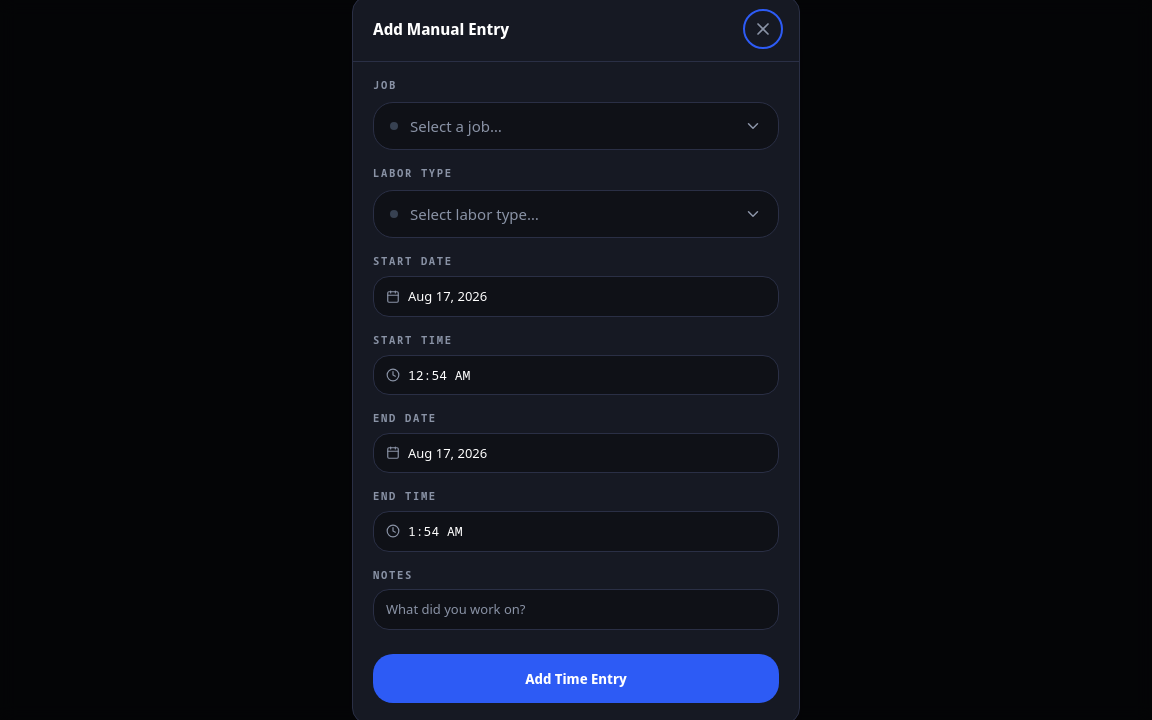
EditEntryModal — validation › shows "Please select a labor type" when job is selected but no labor type
Click the button "Select a job…".
click(456, 126)  # box [373,102,779,150]
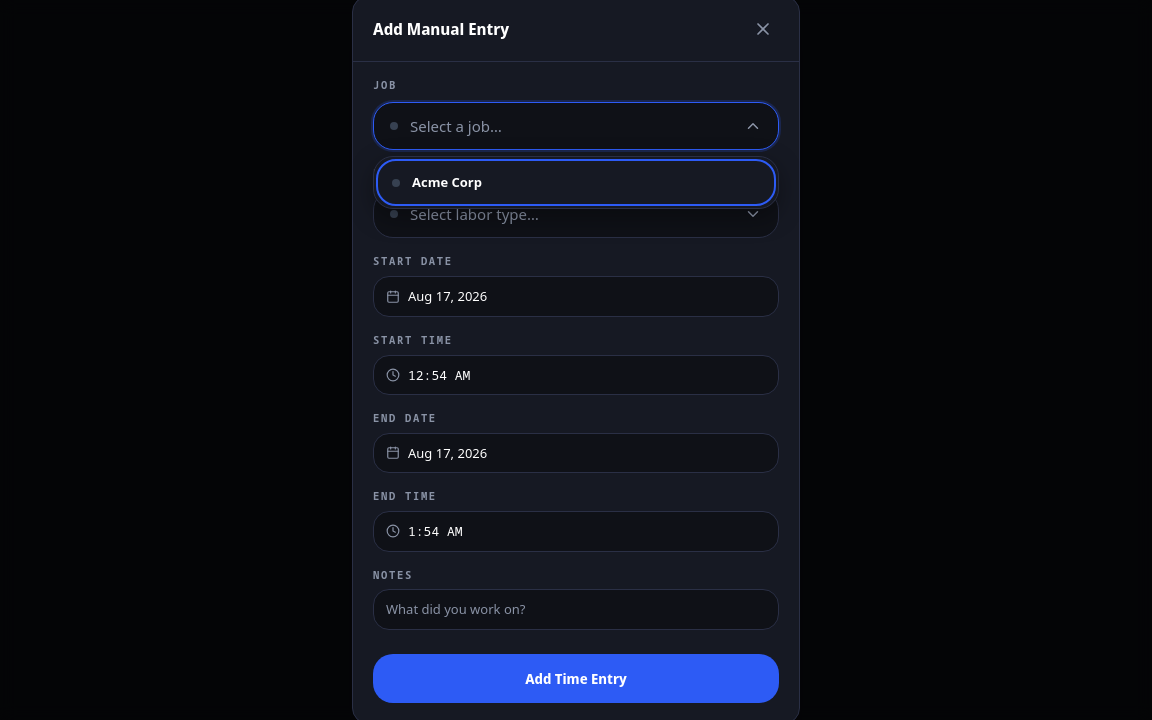
Click the option "Acme Corp".
click(447, 182)  # box [380,163,772,202]
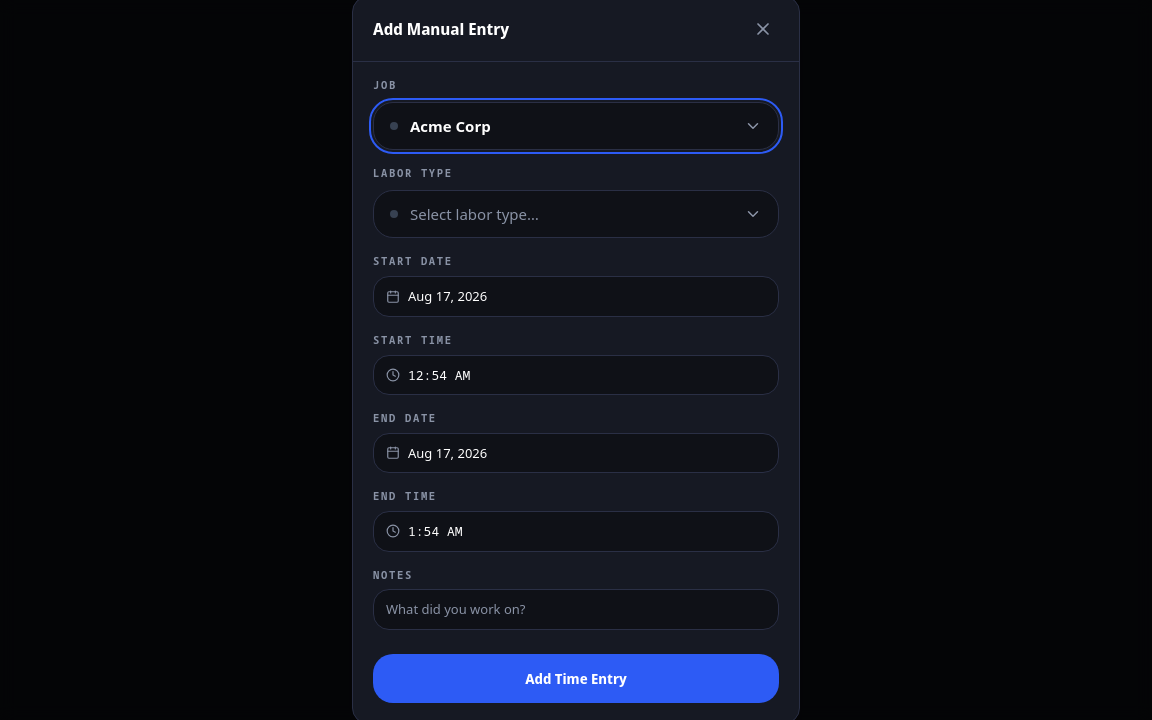
Click the button "Add Time Entry".
click(576, 678)  # box [373,654,779,703]
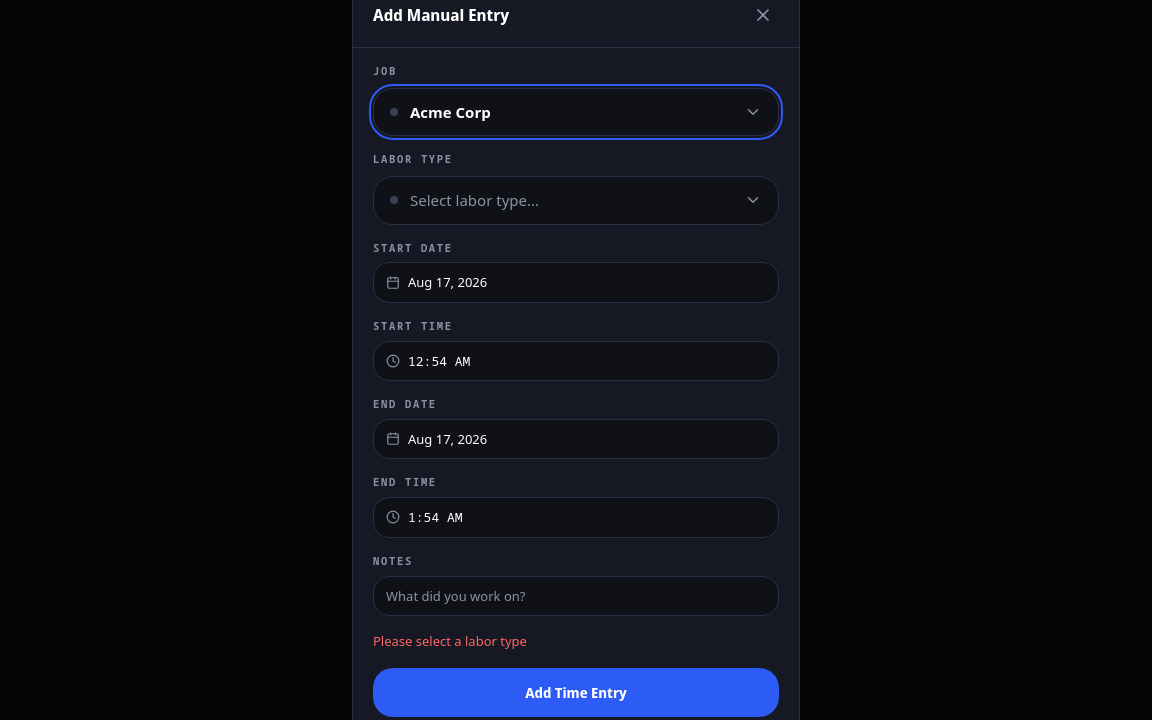
Expected: the text "Please select a labor type" is shown, [373,632,527,650]
